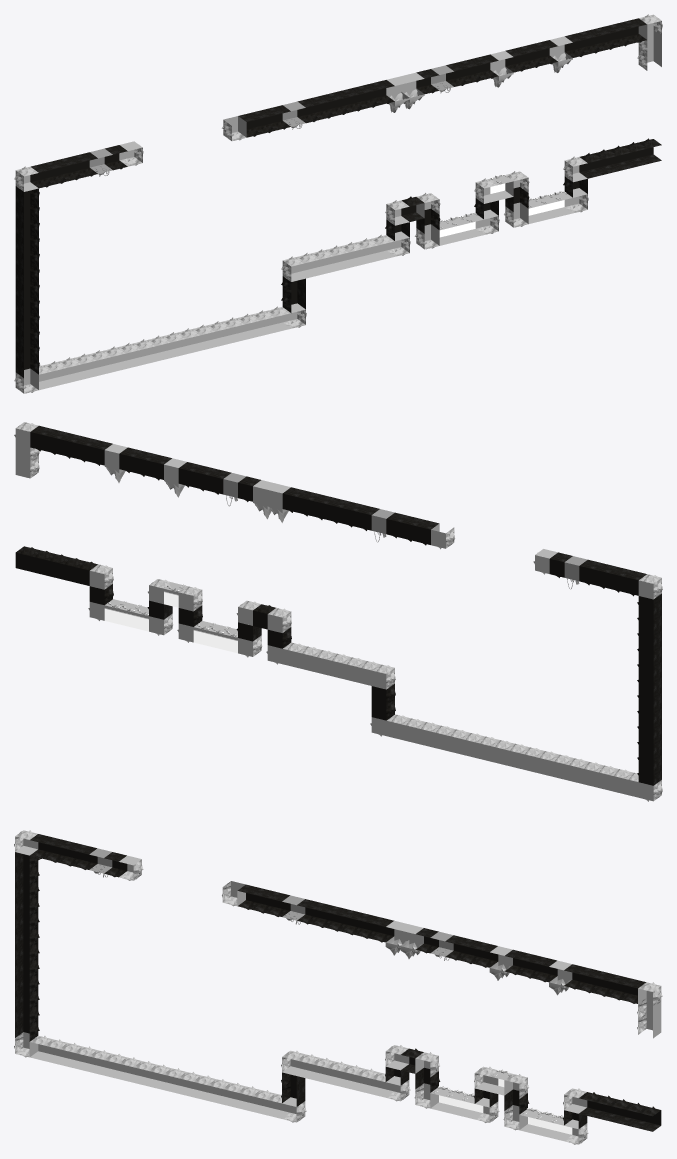
Rendered from Cubi_Room13.fbx.
3 renders of one model, top to bottom at view 1: azimuth 30°, elevation 25°; view 2: azimuth 150°, elevation 25°; view 3: azimuth 330°, elevation 25°, orthographic.
Visible parts, largest first — view 1: Cubes_Room13; view 2: Cubes_Room13; view 3: Cubes_Room13.
Part boxes in pixels (box(x1,y1,x2,y2)): Cubes_Room13: box(14, 14, 662, 393); Cubes_Room13: box(14, 422, 662, 801); Cubes_Room13: box(14, 830, 662, 1144).
Bounding box in the file's own units: 4345 × 1445 × 100.
